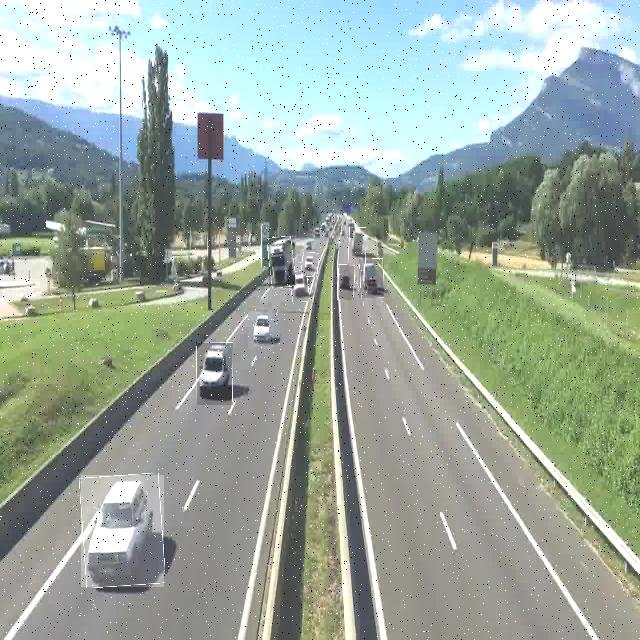Car: (81, 475, 164, 587), (197, 342, 233, 405), (248, 309, 274, 349), (359, 259, 384, 298), (290, 271, 309, 302), (338, 265, 354, 300), (302, 253, 318, 277)
Truck: (269, 237, 295, 288), (349, 227, 366, 264)
